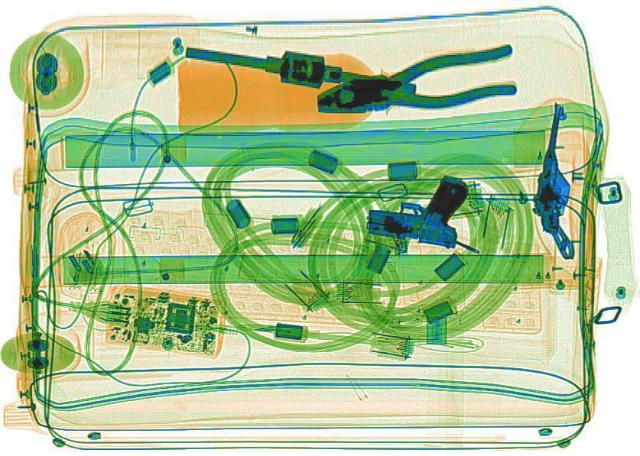Gun: (520, 100, 600, 257), (356, 162, 478, 246)
Pliers: (301, 41, 533, 130)
